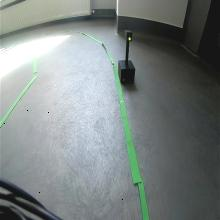green: (124, 29, 133, 42)
